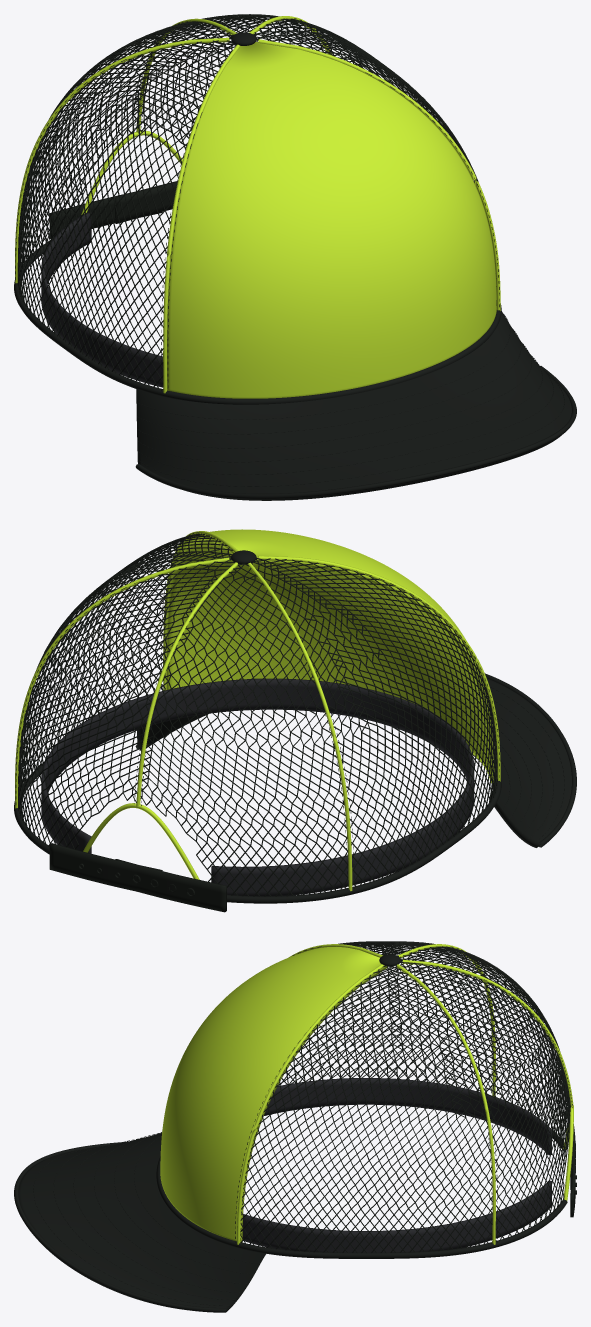
Rendered from trucker-lime.glb.
3 views of the same model, one above another, from view 1: azimuth 30°, elevation 25°; view 2: azimuth 150°, elevation 25°; view 3: azimuth 270°, elevation 25° (orthographic). The views are drawn at different scales.
Visible parts, largest first — view 1: Front panel / color / complete construction, Brim / color / complete construction, Open mesh / color / complete construction, Interior sweatband / complete construction, Topstitch / color / complete construction, Snapback / color / complete construction; view 2: Open mesh / color / complete construction, Front panel / color / complete construction, Interior sweatband / complete construction, Brim / color / complete construction, Snapback / color / complete construction, Topstitch / color / complete construction; view 3: Open mesh / color / complete construction, Front panel / color / complete construction, Brim / color / complete construction, Interior sweatband / complete construction, Topstitch / color / complete construction.
Boxes of the visible parts, box(x1,y1,x2,y2) form: Front panel / color / complete construction: box(15, 16, 500, 398); Brim / color / complete construction: box(14, 32, 576, 500); Open mesh / color / complete construction: box(17, 14, 496, 389); Interior sweatband / complete construction: box(41, 212, 163, 387); Topstitch / color / complete construction: box(15, 18, 564, 486); Snapback / color / complete construction: box(49, 181, 177, 238); Open mesh / color / complete construction: box(18, 533, 497, 896); Front panel / color / complete construction: box(15, 529, 500, 891); Interior sweatband / complete construction: box(41, 678, 474, 896); Brim / color / complete construction: box(14, 550, 576, 903); Snapback / color / complete construction: box(49, 843, 226, 912); Topstitch / color / complete construction: box(15, 532, 564, 889); Open mesh / color / complete construction: box(240, 941, 570, 1253); Front panel / color / complete construction: box(160, 944, 573, 1244); Brim / color / complete construction: box(14, 954, 567, 1312); Interior sweatband / complete construction: box(242, 1078, 551, 1252); Topstitch / color / complete construction: box(33, 946, 572, 1306).
Bounding box in the file's own units: 0.2024 × 0.1506 × 0.2816.
